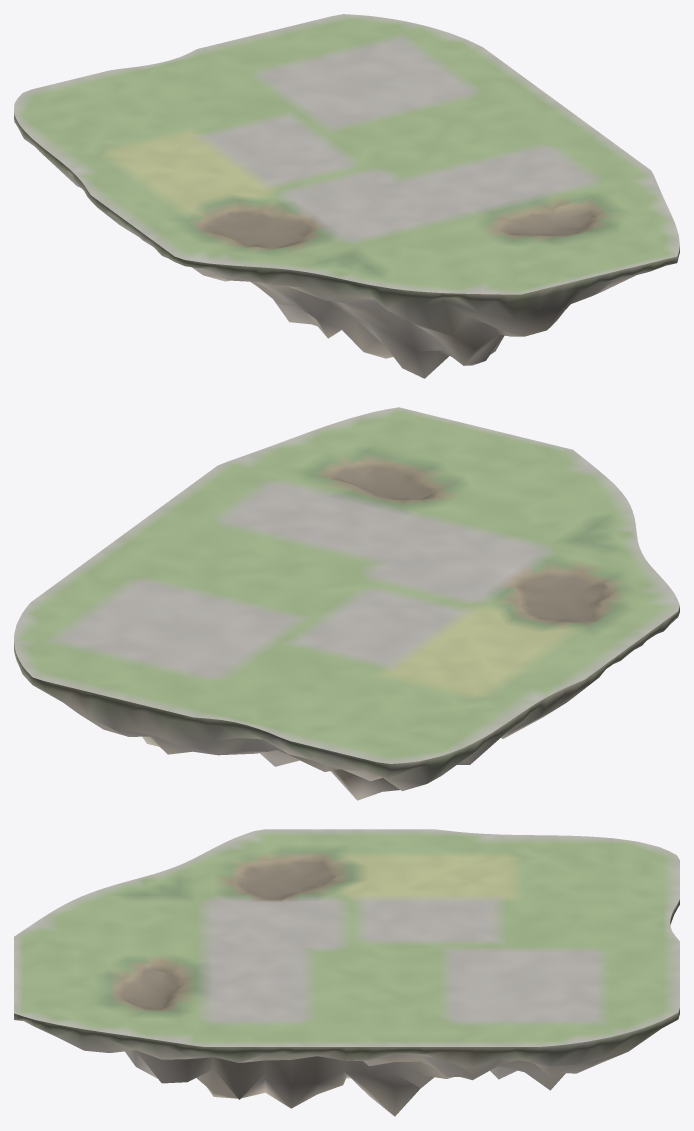
The model's file is SKY-086.rock.glb.
The picture shows the model from 3 angles, top to bottom: view 1: azimuth 30°, elevation 25°; view 2: azimuth 150°, elevation 25°; view 3: azimuth 270°, elevation 25°; orthographic projection. The views are drawn at different scales.
Parts seen in each view (by area): view 1: deck-col, rock; view 2: deck-col, rock; view 3: deck-col, rock.
Part boxes in pixels (left/top/right/bottom): deck-col: left=14, top=14, right=679, bottom=294; rock: left=14, top=113, right=679, bottom=378; deck-col: left=14, top=407, right=679, bottom=763; rock: left=14, top=606, right=679, bottom=800; deck-col: left=14, top=829, right=679, bottom=1046; rock: left=14, top=899, right=679, bottom=1116.
Bounding box in the file's own units: 119 × 45.5 × 154.
